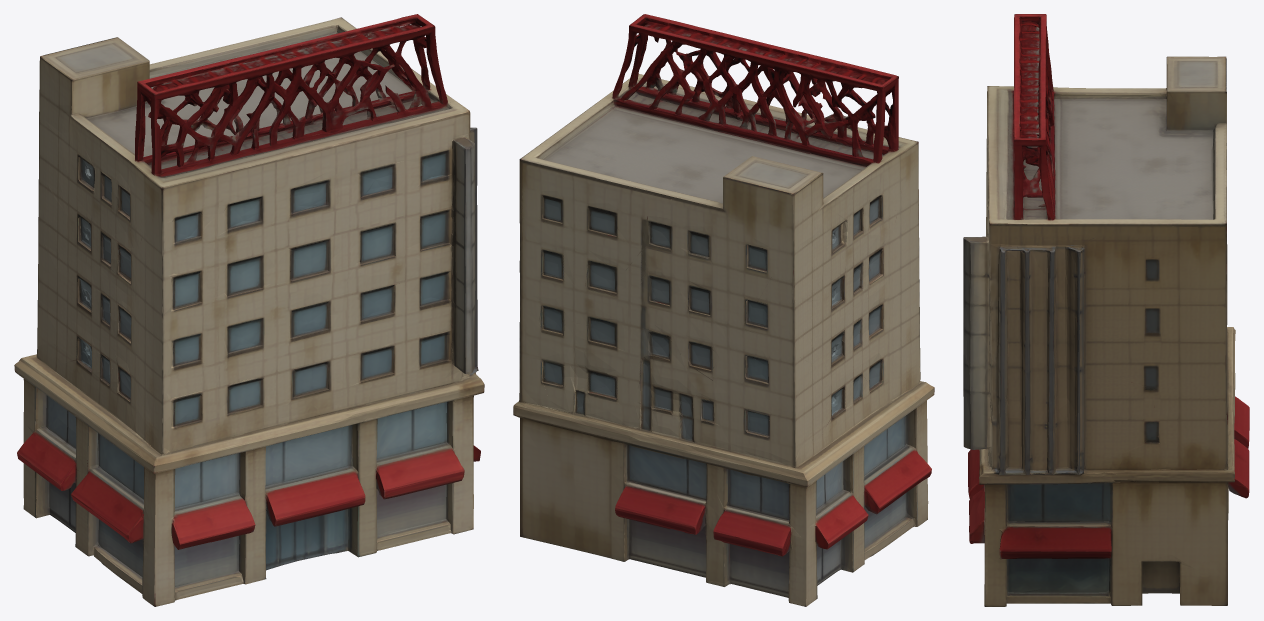
The model's file is kameyu.glb.
The picture shows the model from 3 angles, left to right: view 1: azimuth 30°, elevation 25°; view 2: azimuth 150°, elevation 25°; view 3: azimuth 270°, elevation 25°; orthographic projection. The views are drawn at different scales.
Visible parts, largest first — view 1: world; view 2: world; view 3: world.
Boxes of the visible parts, x1,y1,x2,y2 form: world: (14,14,484,606); world: (513,14,934,606); world: (963,14,1249,606).
Size of the model in its own units: 0.7395 by 1 by 0.5678.
1 material, 1 textured.
